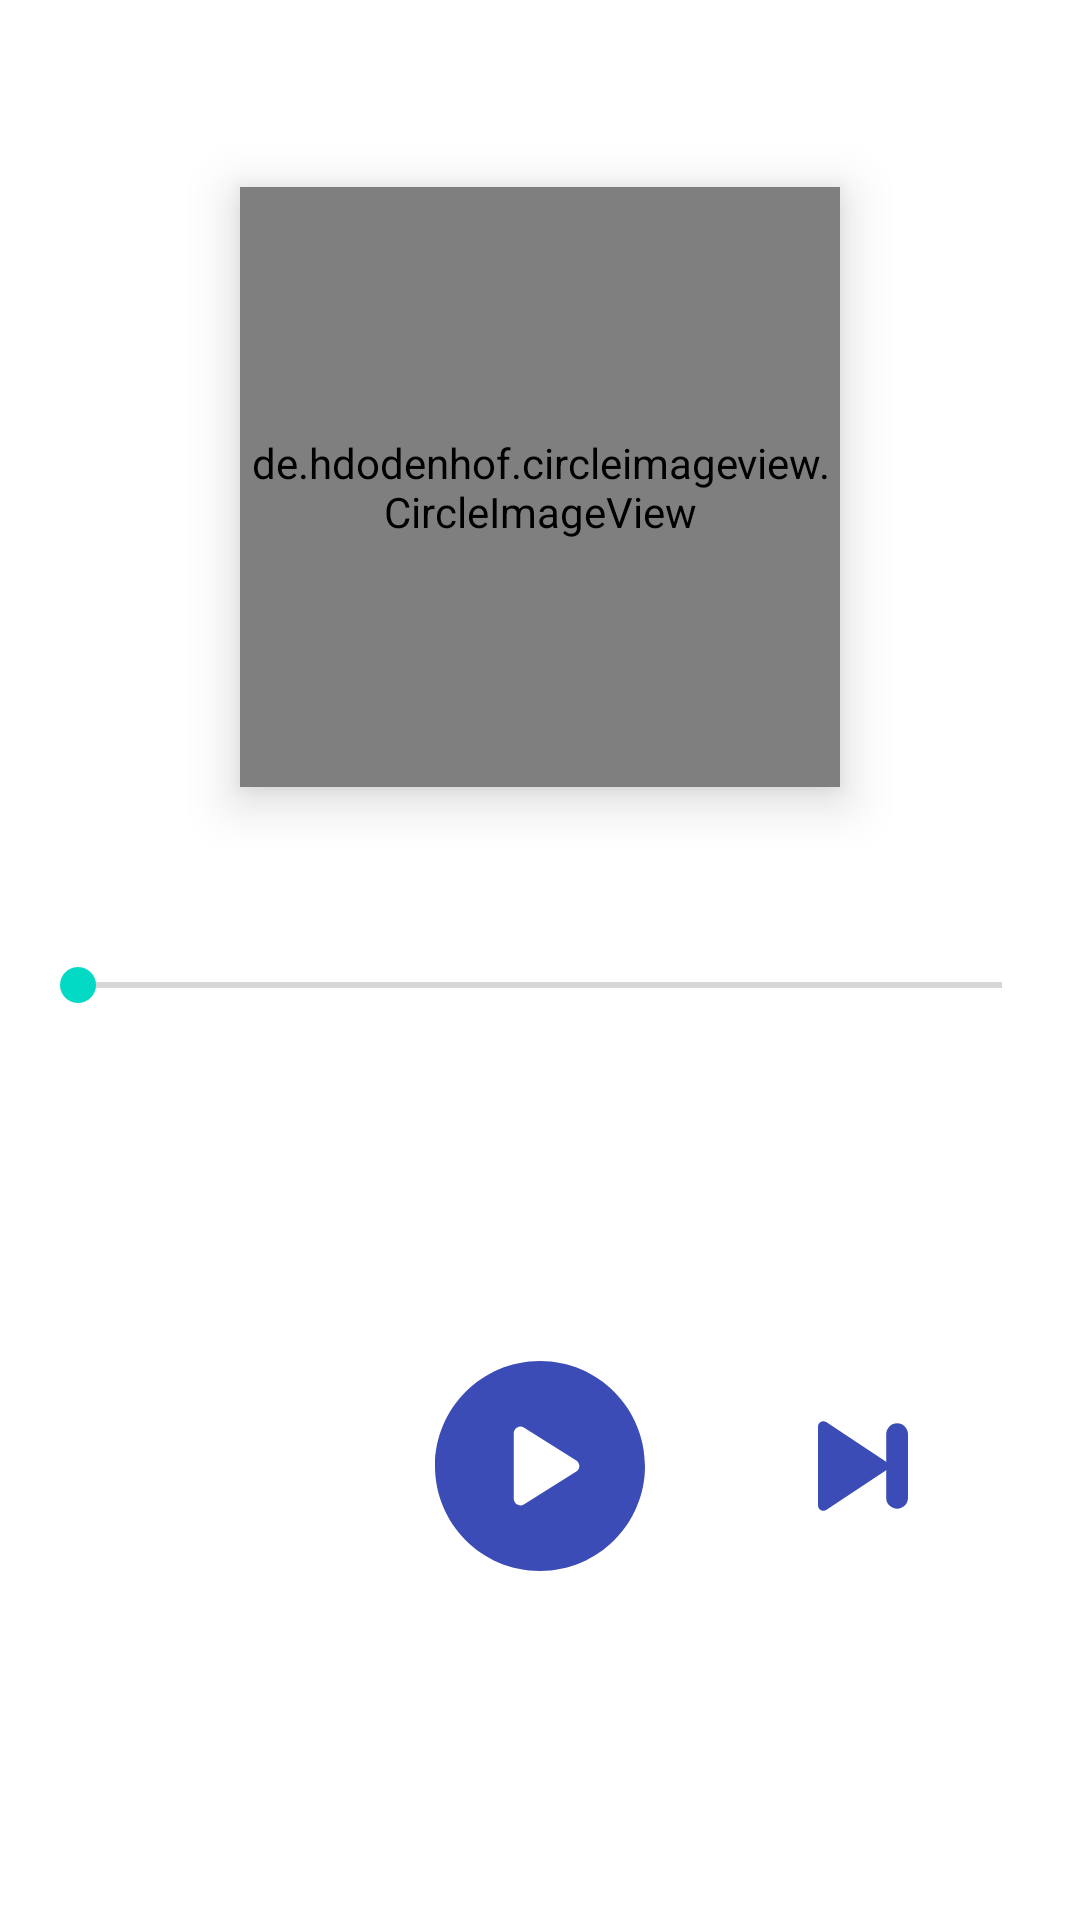

Locate icon controls on the screen. Image size 1080x1920, boxes as (x1, y1, x2, y2).
play: (435, 1361, 645, 1571)
skip next: (818, 1421, 908, 1511)
